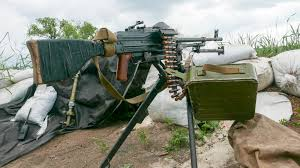gun: (23, 20, 258, 129)
